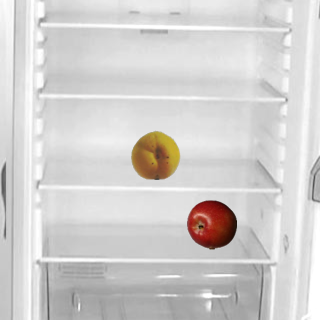Apple Braeburn: (186, 199, 236, 249)
Peach 2: (130, 129, 180, 179)
